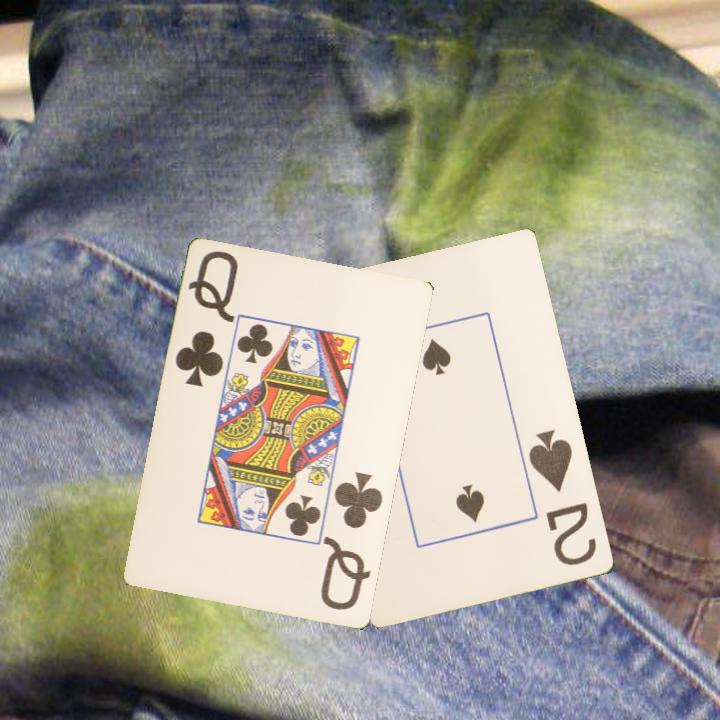2s: (525, 426, 600, 569)
Qc: (317, 468, 386, 614), (172, 247, 242, 390)
